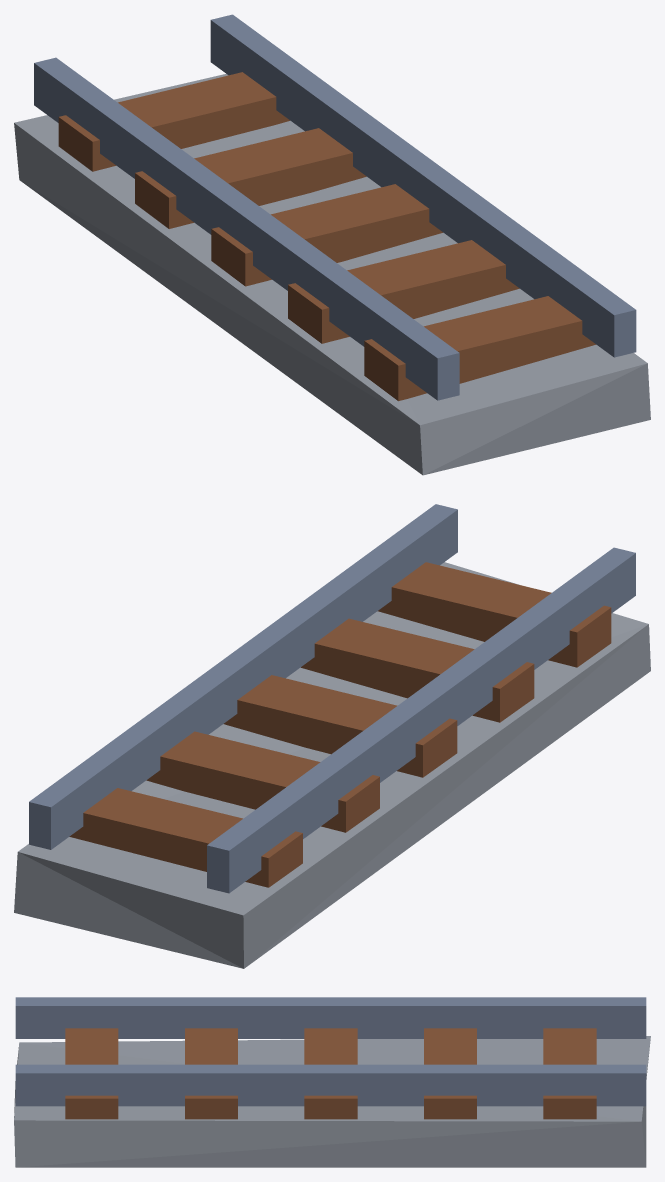
File: SM_Rail_Straight.fbx
The picture shows the model from 3 angles, top to bottom: view 1: azimuth 30°, elevation 25°; view 2: azimuth 150°, elevation 25°; view 3: azimuth 270°, elevation 25°; orthographic projection. The views are drawn at different scales.
Parts seen in each view (by area): view 1: SM_Rail_Straight; view 2: SM_Rail_Straight; view 3: SM_Rail_Straight.
Boxes of the visible parts, x1,y1,x2,y2 form: SM_Rail_Straight: (14,14,650,475); SM_Rail_Straight: (14,504,650,968); SM_Rail_Straight: (14,997,650,1167).
Size of the model in its own units: 0.6265 by 0.295 by 1.92.
